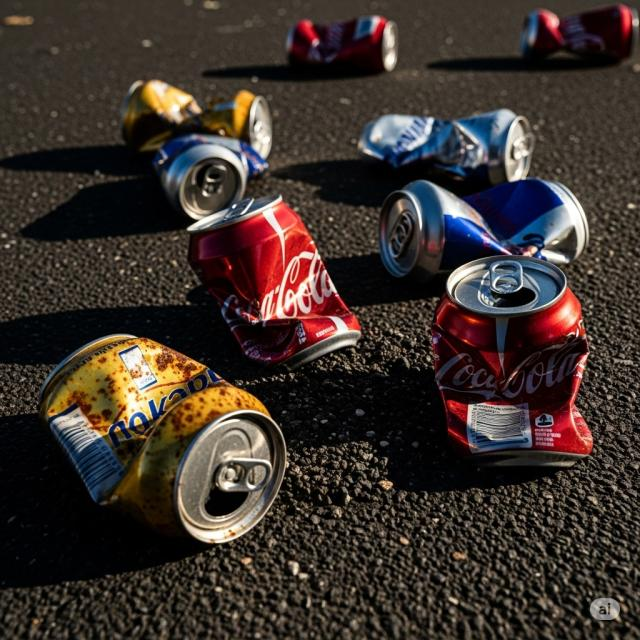aluminum: (30, 340, 284, 546), (424, 256, 595, 472), (186, 197, 360, 365), (381, 180, 589, 272), (361, 107, 533, 184), (121, 76, 272, 158)
